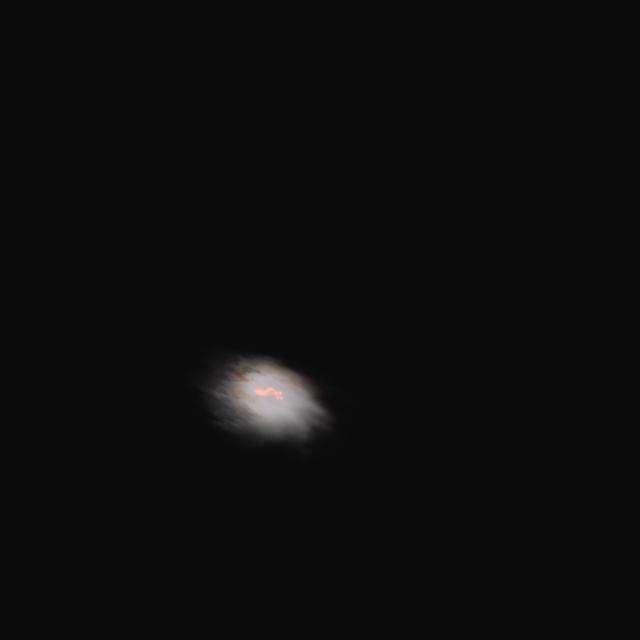fire: (247, 382, 287, 408)
smoke: (197, 342, 351, 465)
